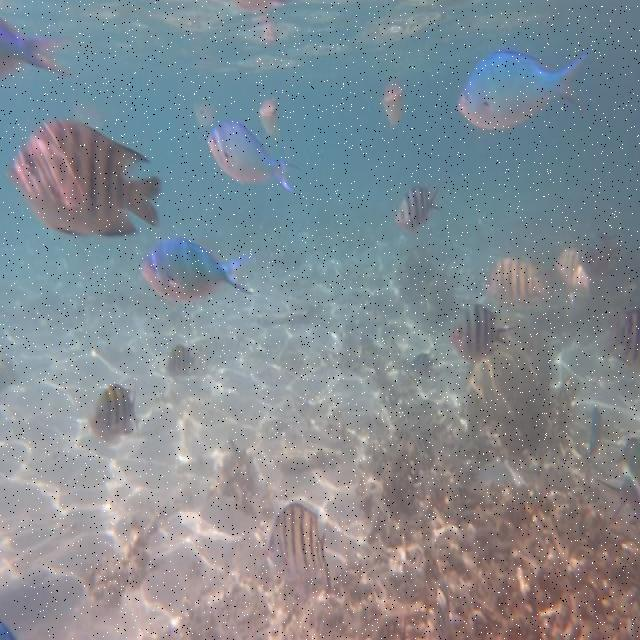fish: (3, 118, 161, 236), (455, 51, 588, 132), (140, 239, 256, 305), (209, 122, 300, 190), (269, 503, 329, 587), (449, 303, 513, 365), (482, 257, 546, 303), (89, 383, 137, 441), (394, 183, 440, 227)
